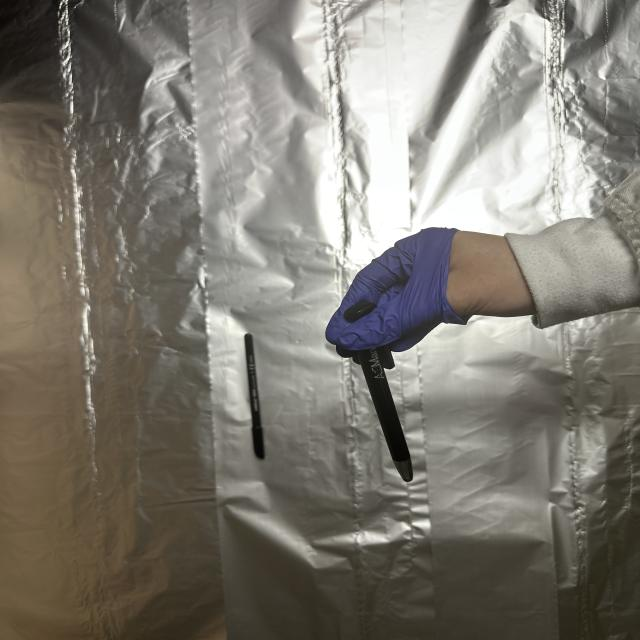glove_partial: (326, 226, 540, 356)
